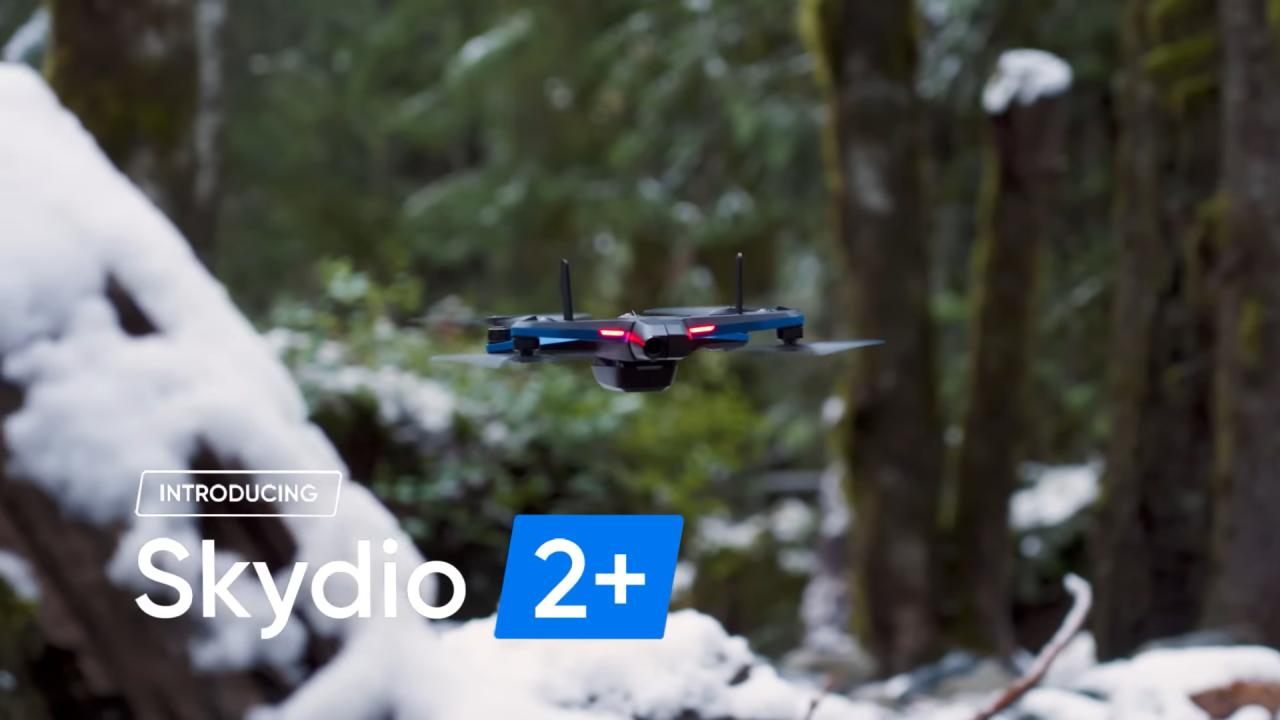Drone: (399, 240, 901, 414)
